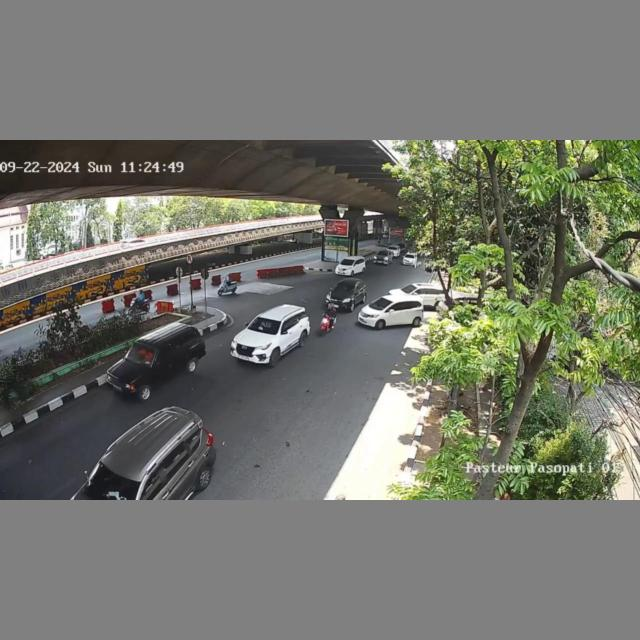windshield: (87, 462, 139, 500), (124, 342, 158, 365), (248, 317, 281, 334), (370, 298, 393, 309), (334, 282, 355, 293), (341, 259, 355, 266)
